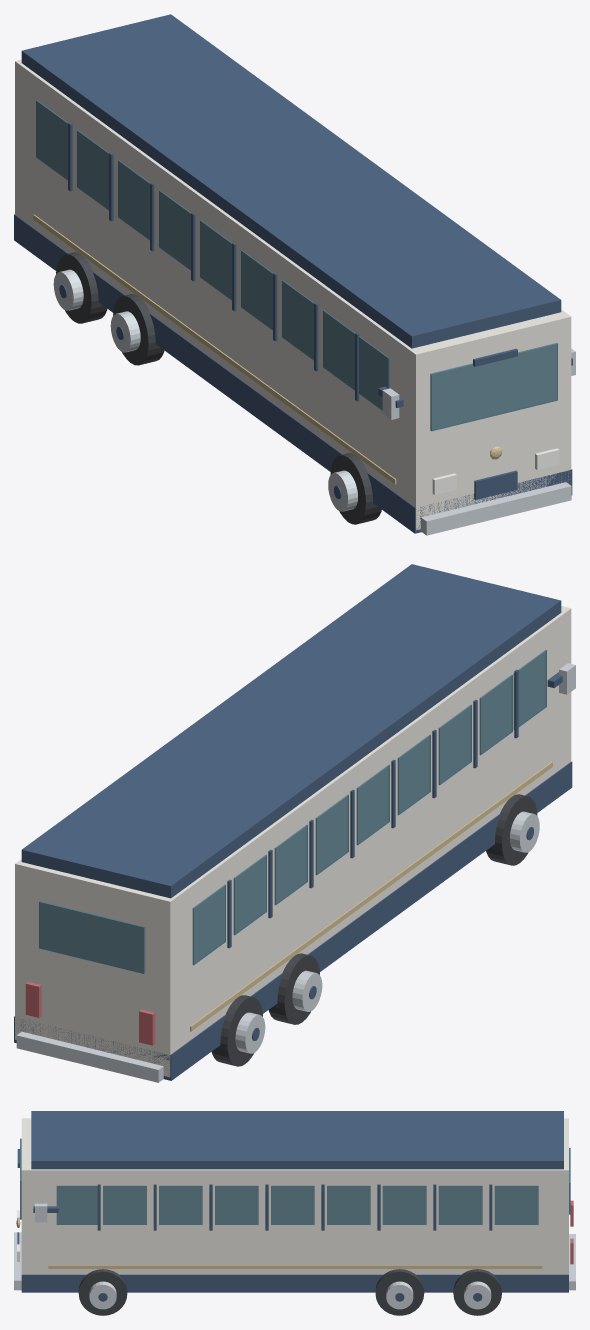
The model's file is gtex_voyager_club_coach.glb.
The picture shows the model from 3 angles, top to bottom: view 1: azimuth 30°, elevation 25°; view 2: azimuth 150°, elevation 25°; view 3: azimuth 270°, elevation 25°; orthographic projection. The views are drawn at different scales.
Parts seen in each view (by area): view 1: Coach_Roof, Coach_Main_Body, Lower_Navy_Skirt, Front_Windscreen, Front_Bumper, Gold_Side_Livery_L, Left_Window_3, Left_Window_4, Left_Window_5, Left_Window_6, Left_Window_7, Left_Window_8 (+10 smaller); view 2: Coach_Roof, Coach_Main_Body, Lower_Navy_Skirt, Rear_Window, Rear_Bumper, Gold_Side_Livery_L, Left_Window_3, Left_Window_2, Left_Window_4, Left_Window_6, Left_Window_7, Left_Window_8 (+9 smaller); view 3: Coach_Main_Body, Coach_Roof, Lower_Navy_Skirt, Gold_Side_Livery_R, Right_Window_1, Right_Window_2, Right_Window_3, Right_Window_4, Right_Window_5, Right_Window_6, Right_Window_7, Right_Window_8 (+9 smaller).
Part boxes in pixels (x1,y1,x2,y2): Coach_Roof: [21, 14, 561, 348]; Coach_Main_Body: [15, 59, 571, 530]; Lower_Navy_Skirt: [14, 214, 572, 533]; Front_Windscreen: [430, 343, 557, 431]; Front_Bumper: [421, 482, 571, 535]; Gold_Side_Livery_L: [33, 214, 396, 484]; Left_Window_3: [118, 160, 149, 240]; Left_Window_4: [159, 190, 190, 270]; Left_Window_5: [200, 220, 231, 300]; Left_Window_6: [241, 250, 272, 330]; Left_Window_7: [282, 280, 313, 360]; Left_Window_8: [323, 310, 354, 390]; Coach_Roof: [21, 564, 561, 898]; Coach_Main_Body: [15, 606, 571, 1077]; Lower_Navy_Skirt: [14, 761, 572, 1080]; Rear_Window: [39, 901, 145, 973]; Rear_Bumper: [16, 1031, 163, 1082]; Gold_Side_Livery_L: [190, 762, 552, 1031]; Left_Window_3: [274, 824, 307, 905]; Left_Window_2: [233, 854, 266, 935]; Left_Window_4: [315, 794, 348, 875]; Left_Window_6: [397, 734, 430, 815]; Left_Window_7: [438, 704, 471, 785]; Left_Window_8: [479, 674, 512, 755]; Coach_Main_Body: [21, 1118, 568, 1274]; Coach_Roof: [31, 1111, 563, 1169]; Lower_Navy_Skirt: [21, 1274, 568, 1292]; Gold_Side_Livery_R: [48, 1265, 542, 1268]; Right_Window_1: [494, 1185, 538, 1224]; Right_Window_2: [438, 1185, 482, 1224]; Right_Window_3: [382, 1185, 426, 1224]; Right_Window_4: [327, 1185, 370, 1224]; Right_Window_5: [271, 1185, 314, 1224]; Right_Window_6: [215, 1185, 258, 1224]; Right_Window_7: [159, 1185, 202, 1224]; Right_Window_8: [103, 1185, 146, 1224].
Size of the model in its own units: 3.13 by 3.43 by 11.55.
